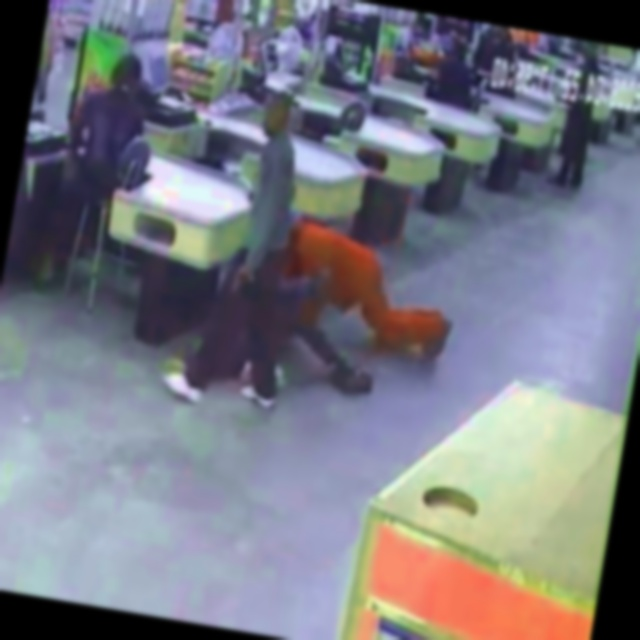gun: (227, 259, 262, 305)
